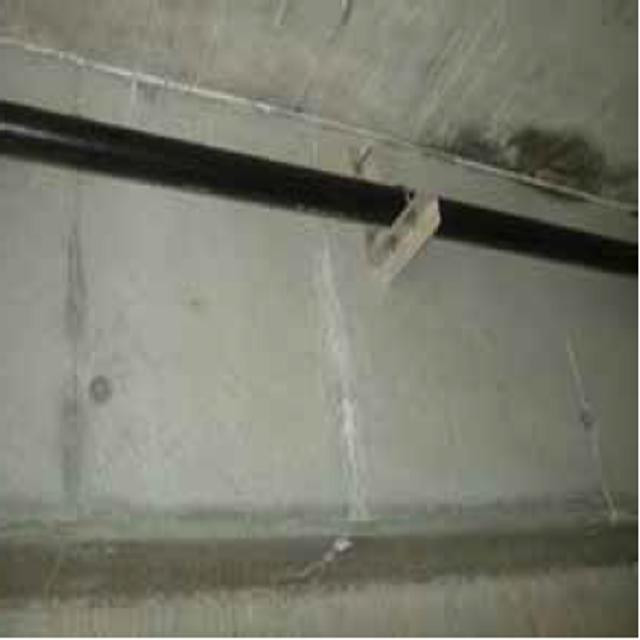leakage: (443, 96, 611, 211)
